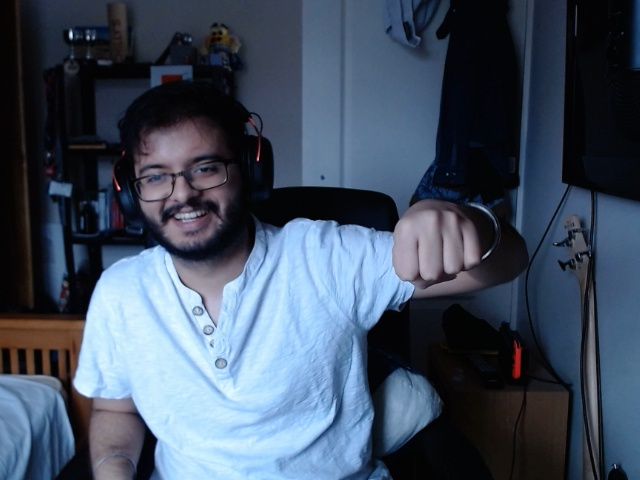Yes: (389, 194, 484, 297)
